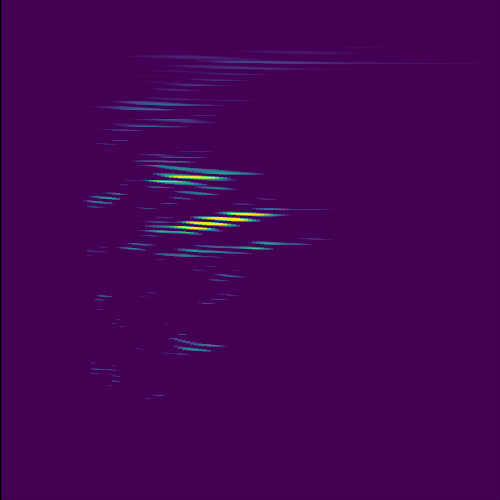semblance: (148, 208, 286, 239), (144, 165, 256, 194)
